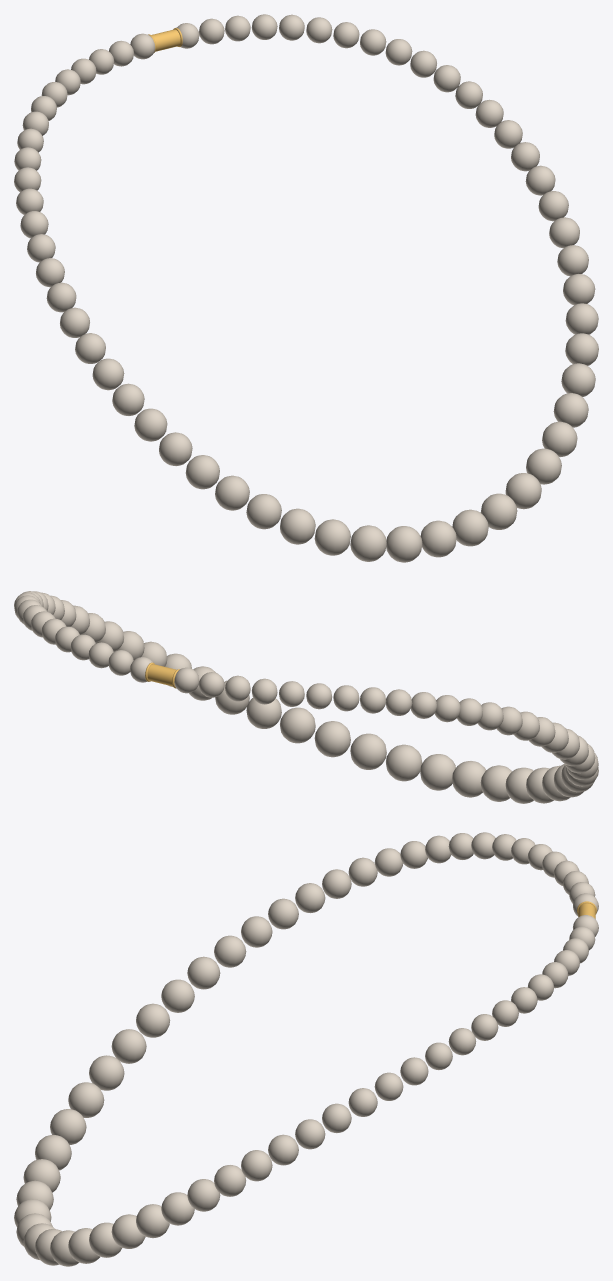
The model's file is pearl-necklace.glb.
3 renders of one model, top to bottom at view 1: azimuth 30°, elevation 25°; view 2: azimuth 150°, elevation 25°; view 3: azimuth 270°, elevation 25°, orthographic.
Visible parts, largest first — view 1: pearl; view 2: pearl, metal; view 3: pearl.
Boxes of the visible parts, <box> form: pearl: <box>14,14,598,562</box>; pearl: <box>14,591,598,803</box>; metal: <box>145,662,179,688</box>; pearl: <box>14,832,598,1266</box>.
Size of the model in its own units: 13.51 by 8.33 by 13.4.
